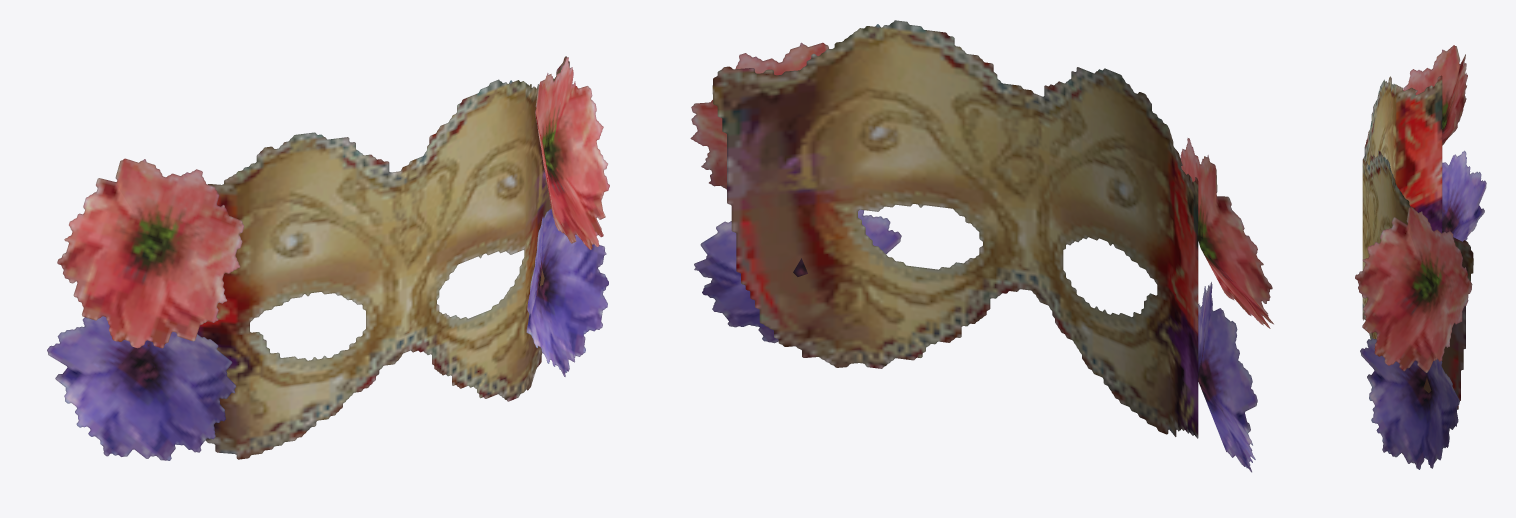
Rendered from furni_0200768.FBX.
3 views of the same model, side by side, from view 1: azimuth 30°, elevation 25°; view 2: azimuth 150°, elevation 25°; view 3: azimuth 270°, elevation 25° (orthographic). The views are drawn at different scales.
Parts seen in each view (by area): view 1: furni_0200768; view 2: furni_0200768; view 3: furni_0200768.
Part boxes in pixels (x1,y1,x2,y2): furni_0200768: (47, 56, 609, 460); furni_0200768: (690, 20, 1273, 472); furni_0200768: (1355, 45, 1486, 469).
Size of the model in its own units: 60.43 by 33.86 by 17.88.
Materials: 1 (1 with a texture image).
